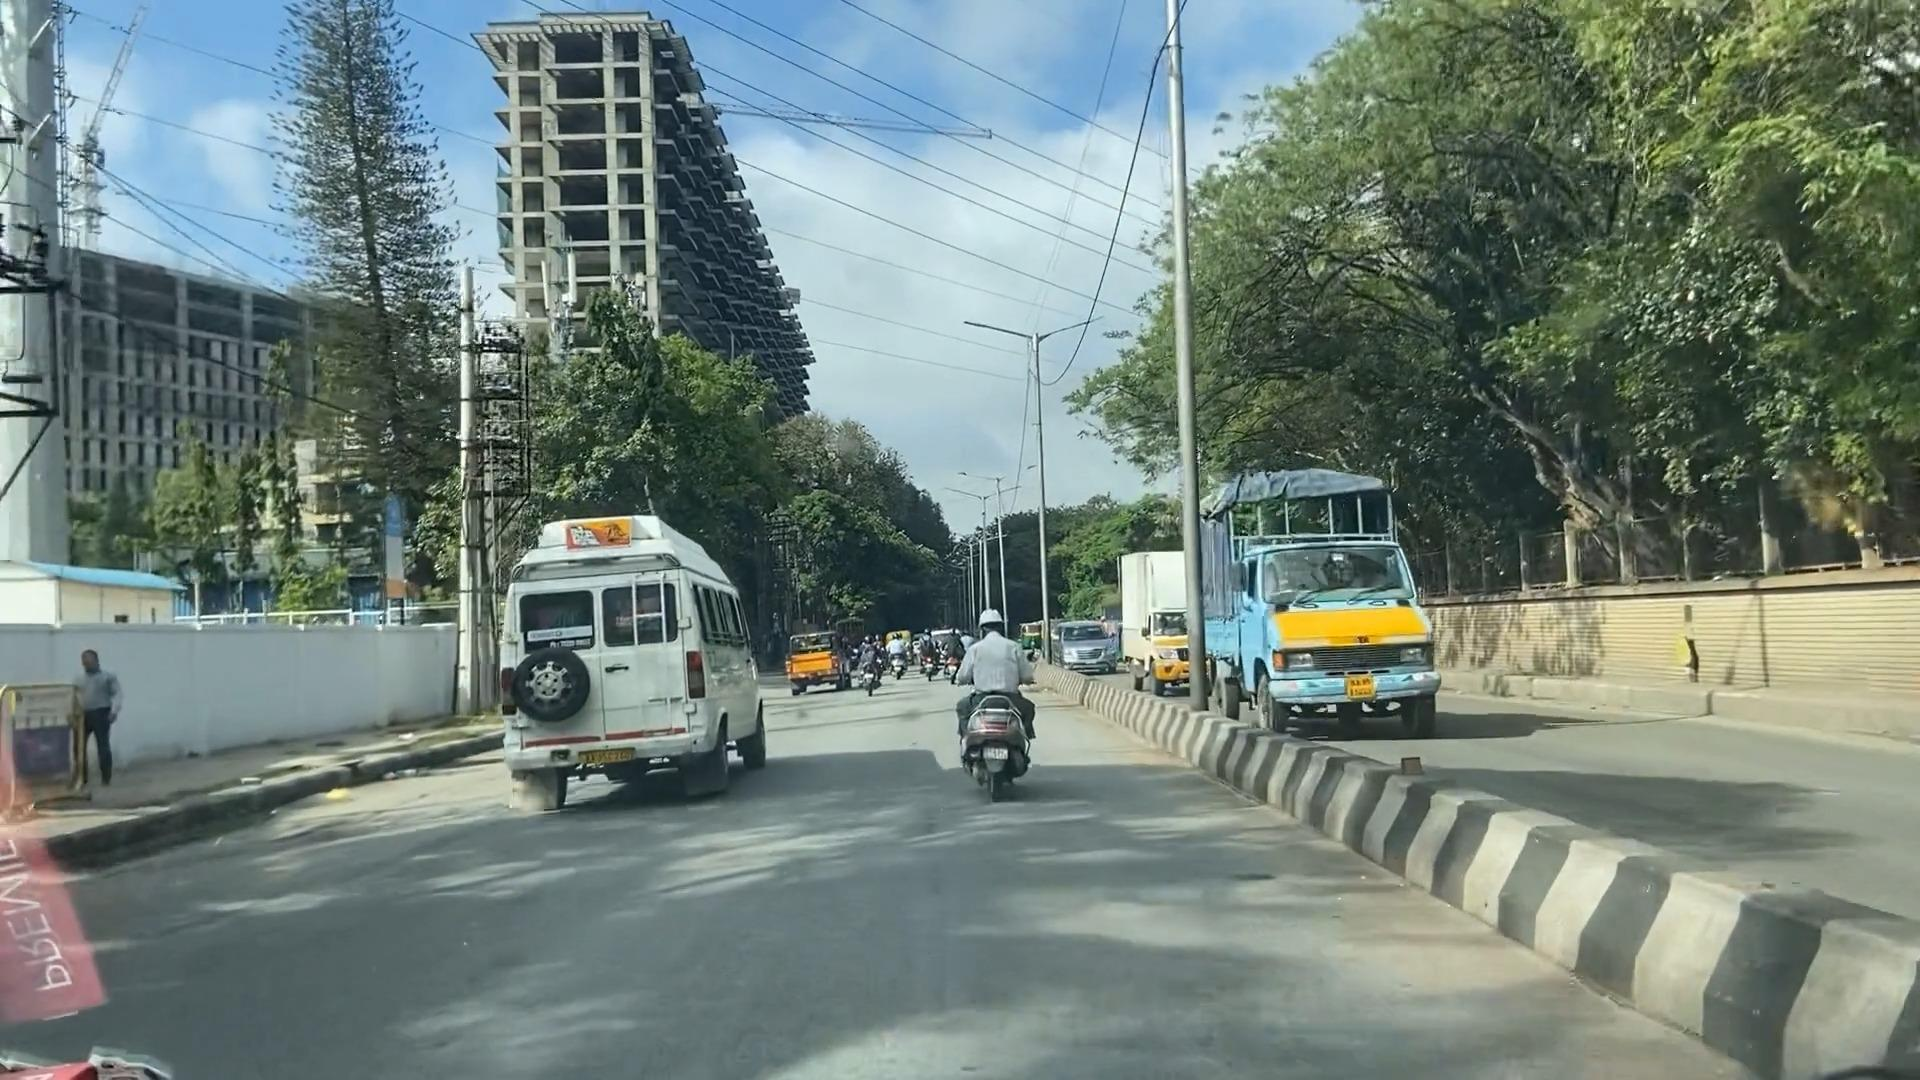HMV: (516, 527, 781, 811)
LMV: (934, 618, 1042, 798)
